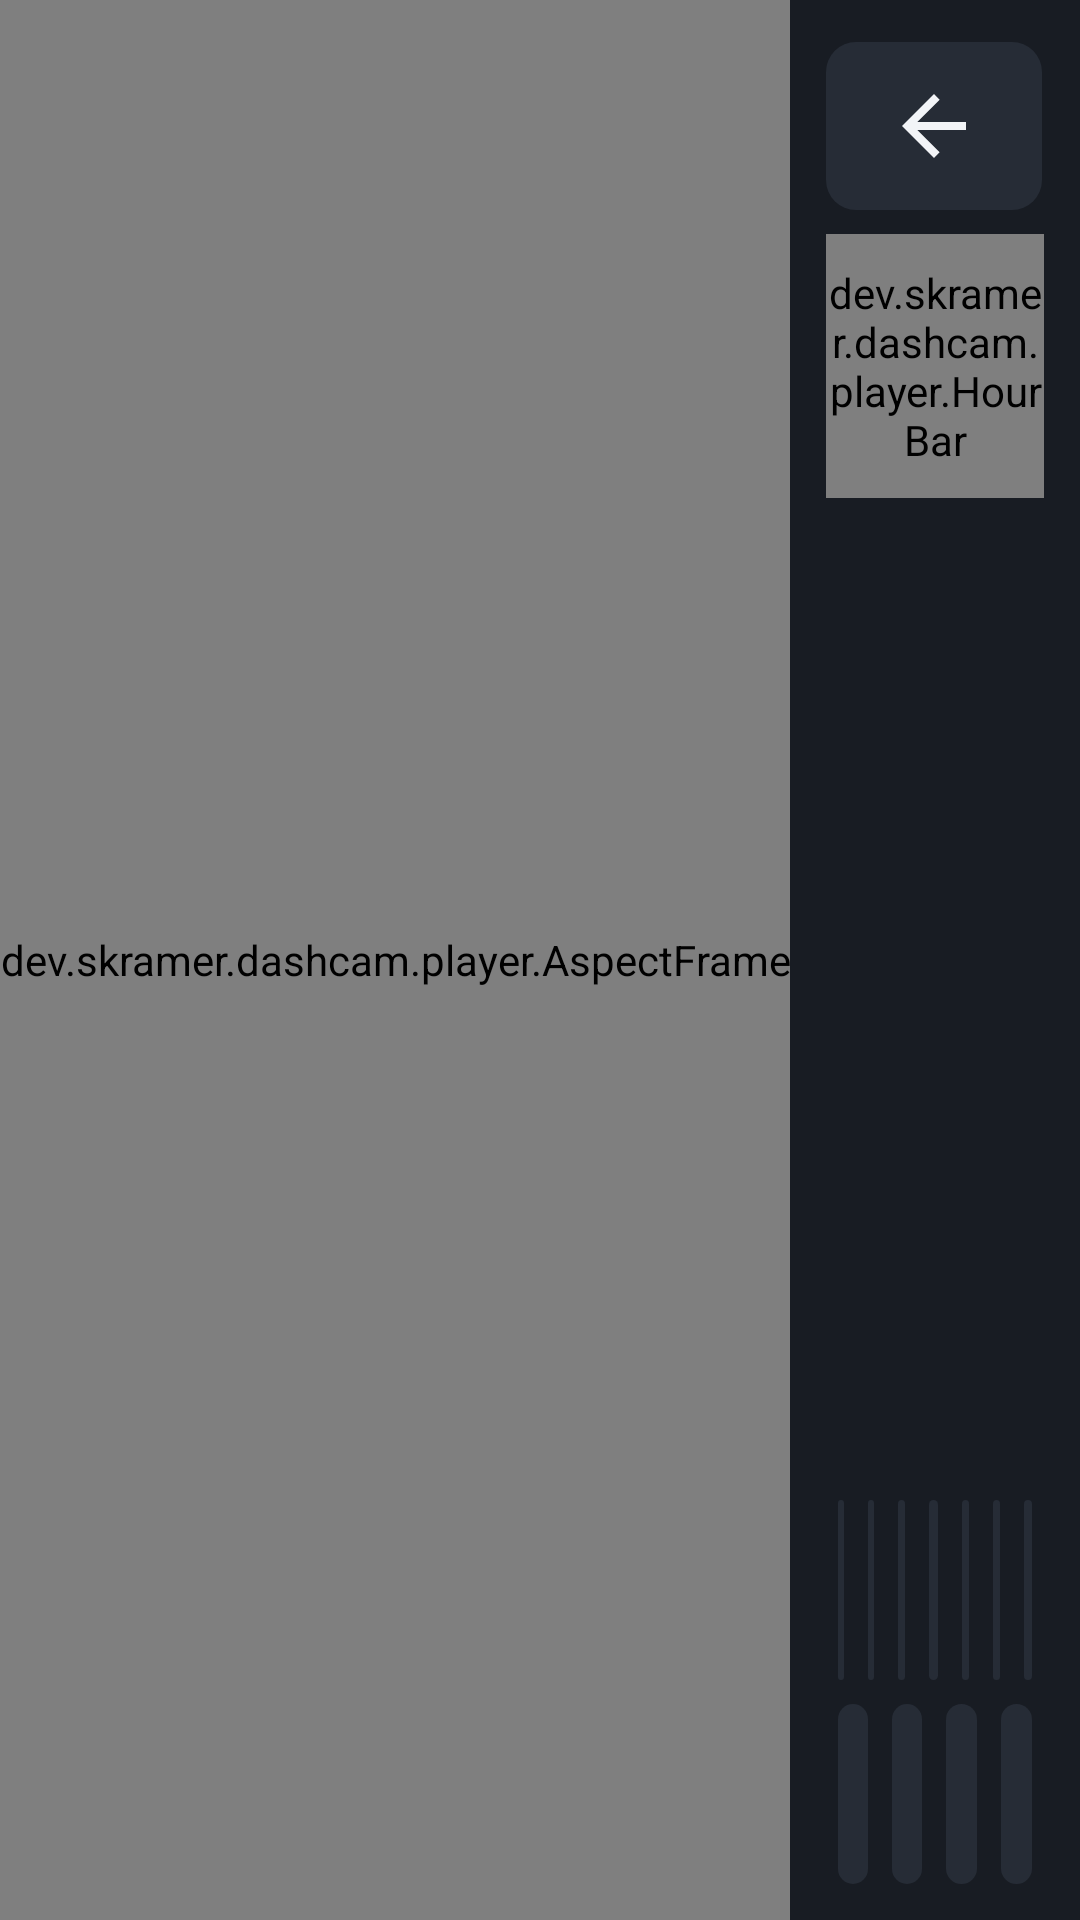

Point at icon controls on the screen. Image size 1080 × 1920, points as point (x, y).
Back: point (934, 126)
